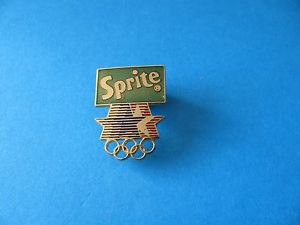sprite: (97, 68, 160, 100)
